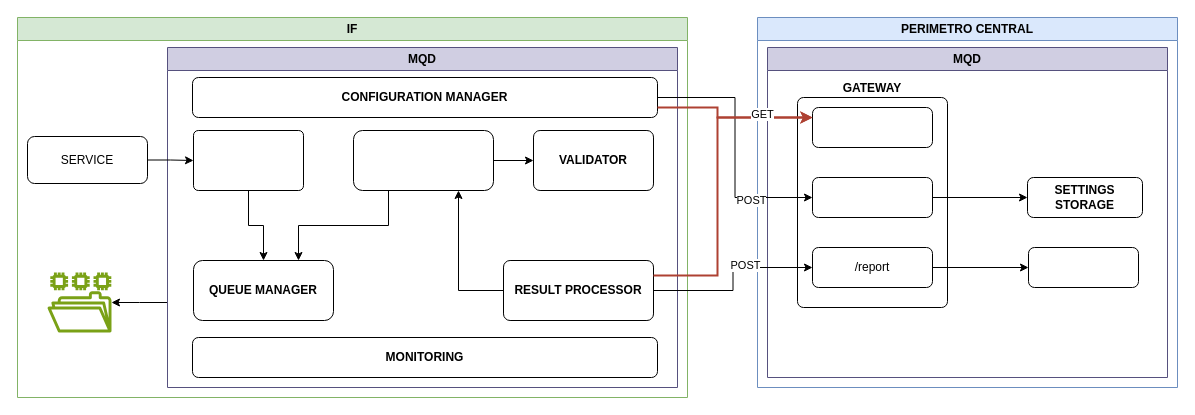
Image size: 1195x415. Some labels were removed from this diagram. The centre of each missing label's shape, as x and y in pixels:
/settings: [872,197]
/token: [872,127]
API: [248,160]
ICP-BRASIL CERTS: [79,302]
MESSAGE PROCESS WORKER: [423,160]
REPORT STORAGE: [1083,267]
